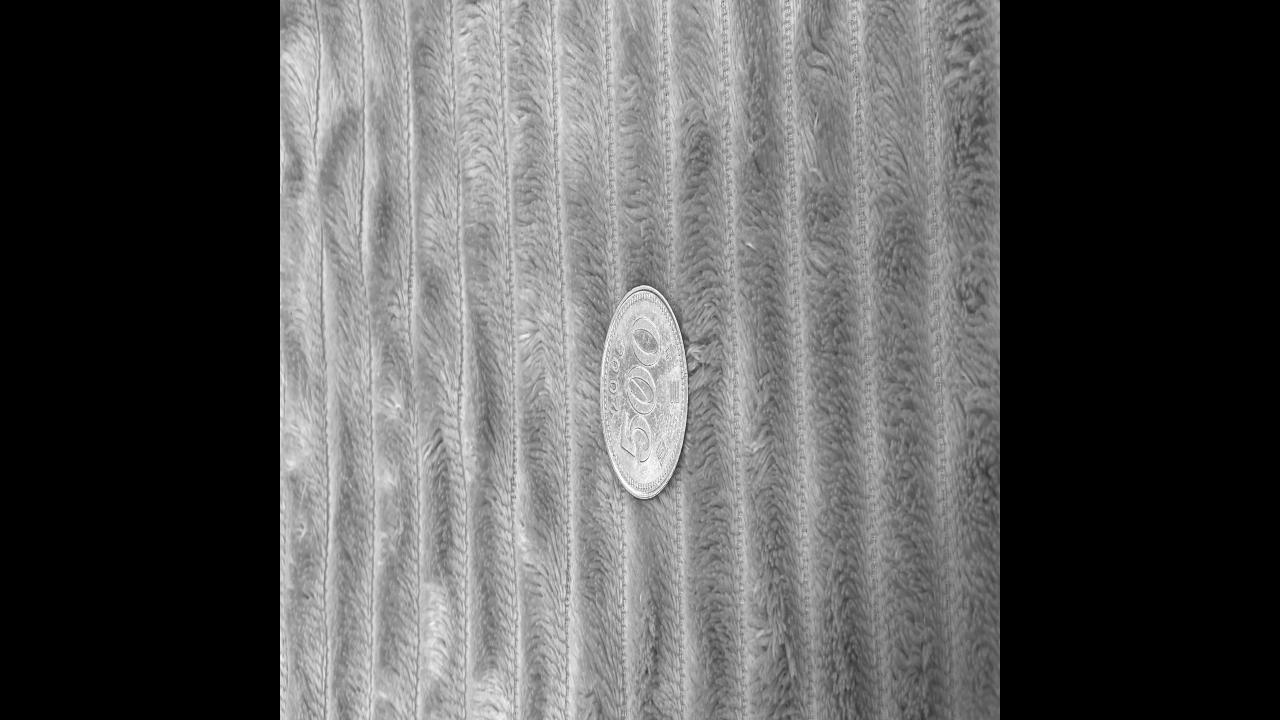coin: (601, 280, 689, 498)
